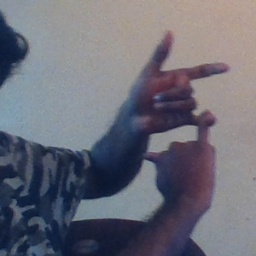S: (127, 28, 236, 187)
